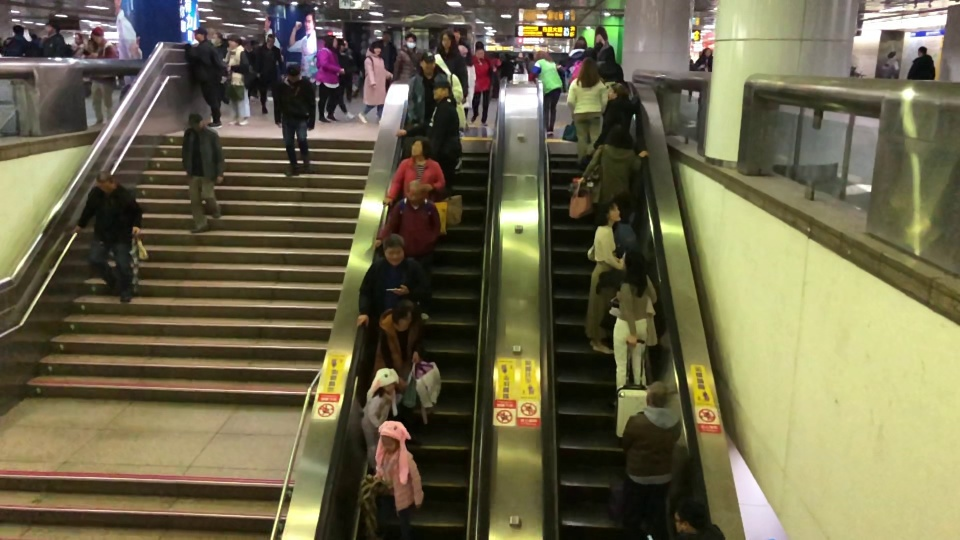person_head: (391, 295, 417, 333), (675, 501, 707, 531), (377, 420, 402, 456), (381, 232, 405, 267), (607, 120, 633, 149), (643, 380, 669, 409), (621, 250, 646, 278), (430, 73, 452, 103), (600, 198, 623, 226), (375, 366, 397, 395), (94, 171, 118, 194), (405, 178, 425, 205), (408, 134, 430, 157), (579, 56, 597, 82), (419, 51, 437, 75), (604, 83, 626, 100), (286, 62, 302, 85), (188, 112, 206, 131), (89, 26, 106, 46), (598, 45, 616, 63), (404, 30, 418, 51), (44, 19, 61, 36), (190, 26, 208, 42), (580, 47, 599, 62), (367, 40, 382, 56), (228, 34, 242, 50), (440, 31, 453, 48), (324, 34, 338, 49), (450, 26, 461, 43), (12, 23, 25, 37), (534, 49, 550, 60), (475, 41, 485, 58), (380, 29, 392, 43), (266, 33, 276, 49), (573, 38, 586, 49), (701, 46, 712, 58), (917, 45, 928, 57), (887, 49, 896, 60)
person_vbox: (372, 179, 442, 320), (71, 170, 143, 304), (620, 381, 671, 538), (396, 79, 461, 199), (372, 295, 423, 443), (356, 232, 425, 341), (611, 250, 658, 406), (581, 123, 649, 223), (584, 199, 626, 353), (374, 418, 425, 530), (183, 113, 225, 234), (180, 26, 228, 128), (565, 57, 608, 168), (273, 64, 315, 177), (381, 136, 446, 208), (359, 368, 399, 474), (82, 27, 118, 127), (592, 81, 641, 154), (220, 35, 255, 126), (408, 49, 448, 127), (449, 26, 477, 137), (528, 49, 563, 136), (358, 40, 393, 125), (433, 29, 468, 104), (315, 36, 345, 122), (253, 32, 284, 113), (469, 41, 497, 125), (374, 28, 400, 117), (672, 501, 731, 540), (594, 44, 625, 117), (389, 30, 423, 84), (38, 17, 72, 58), (4, 24, 37, 61), (906, 45, 935, 79), (565, 39, 587, 70), (880, 50, 900, 79), (694, 46, 713, 72)
